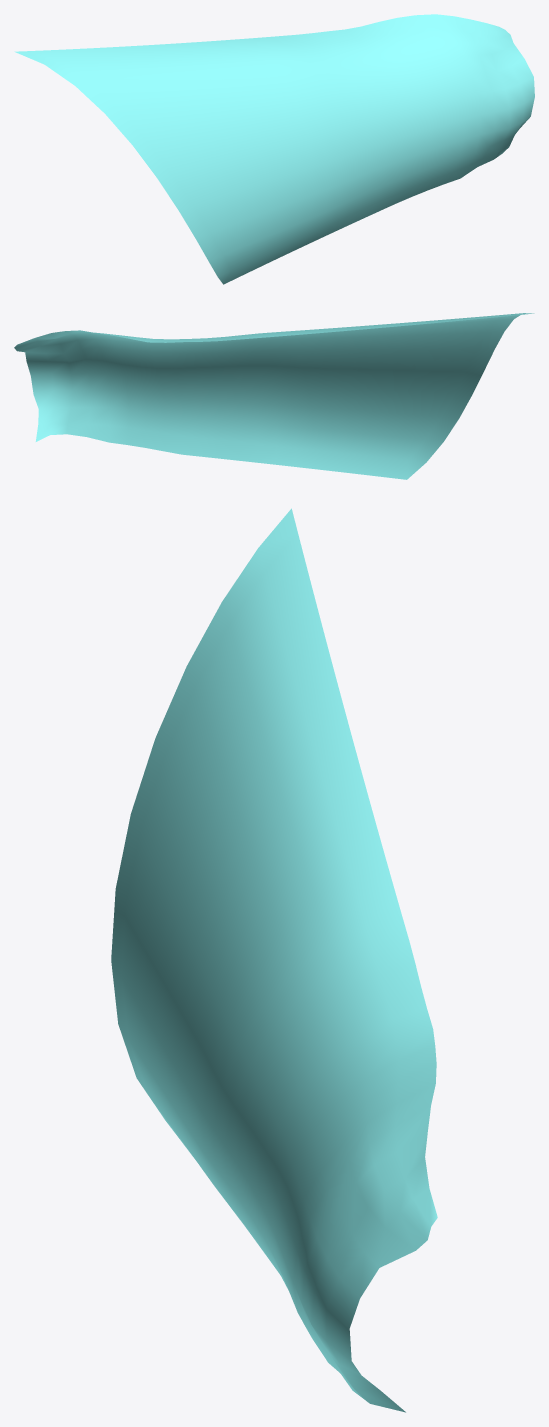
File: Unit_Cloth_Right.FBX
3 renders of one model, top to bottom at view 1: azimuth 30°, elevation 25°; view 2: azimuth 150°, elevation 25°; view 3: azimuth 270°, elevation 25°, orthographic. The views are drawn at different scales.
Visible parts, largest first — view 1: Unit_Cloth_Right; view 2: Unit_Cloth_Right; view 3: Unit_Cloth_Right.
Boxes of the visible parts, <box> form: Unit_Cloth_Right: <box>14,14,534,284</box>; Unit_Cloth_Right: <box>14,313,534,479</box>; Unit_Cloth_Right: <box>111,508,437,1412</box>.
Size of the model in its own units: 99.18 by 44.05 by 28.55.
